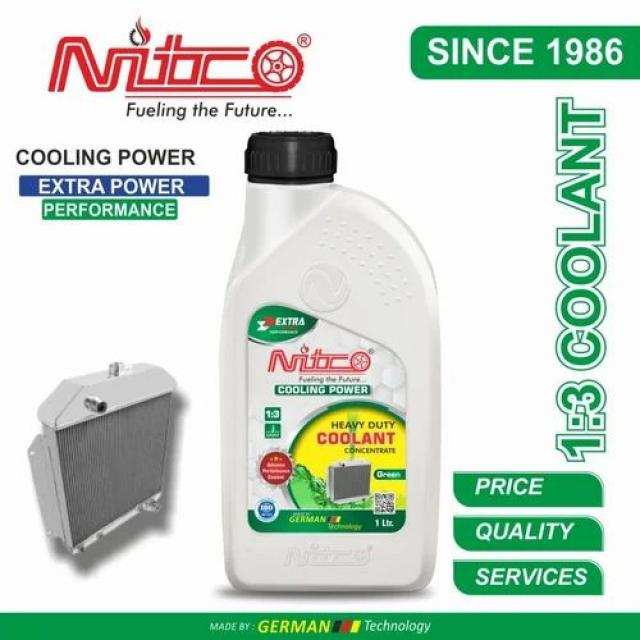coolant: (216, 122, 445, 597)
